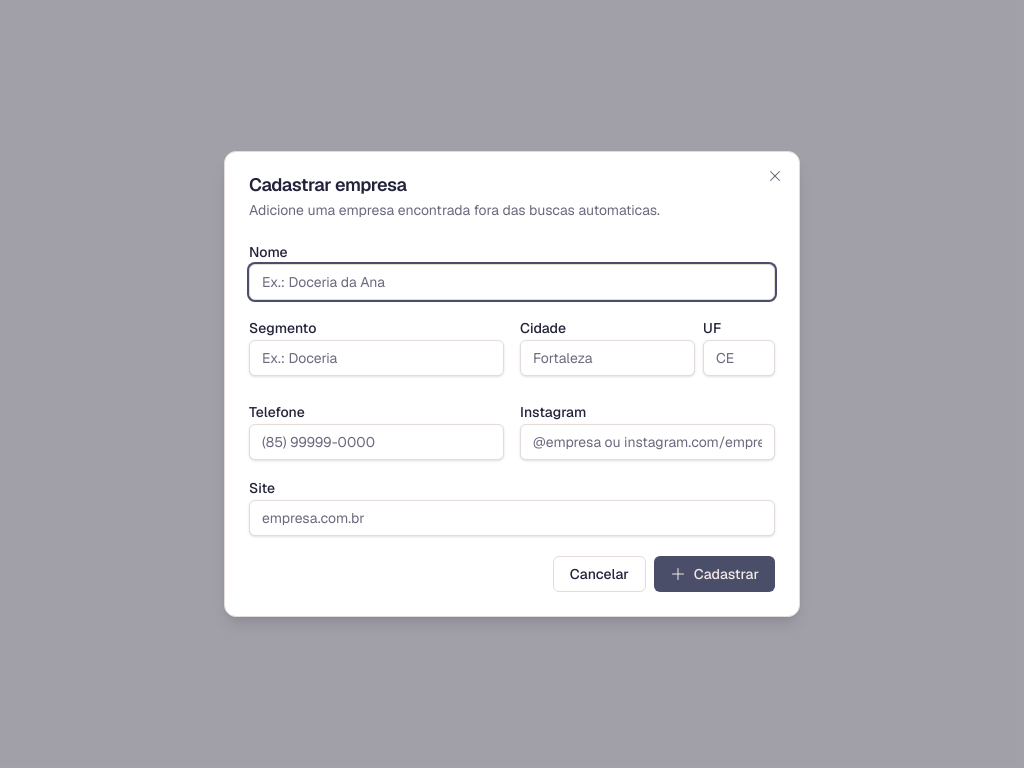
Test case: ManualBusinessDialog › requires site or Instagram before submitting
In the field labelled "Nome": (512, 282) x1=249 y1=264 x2=775 y2=300, type "Doceria da Ana"
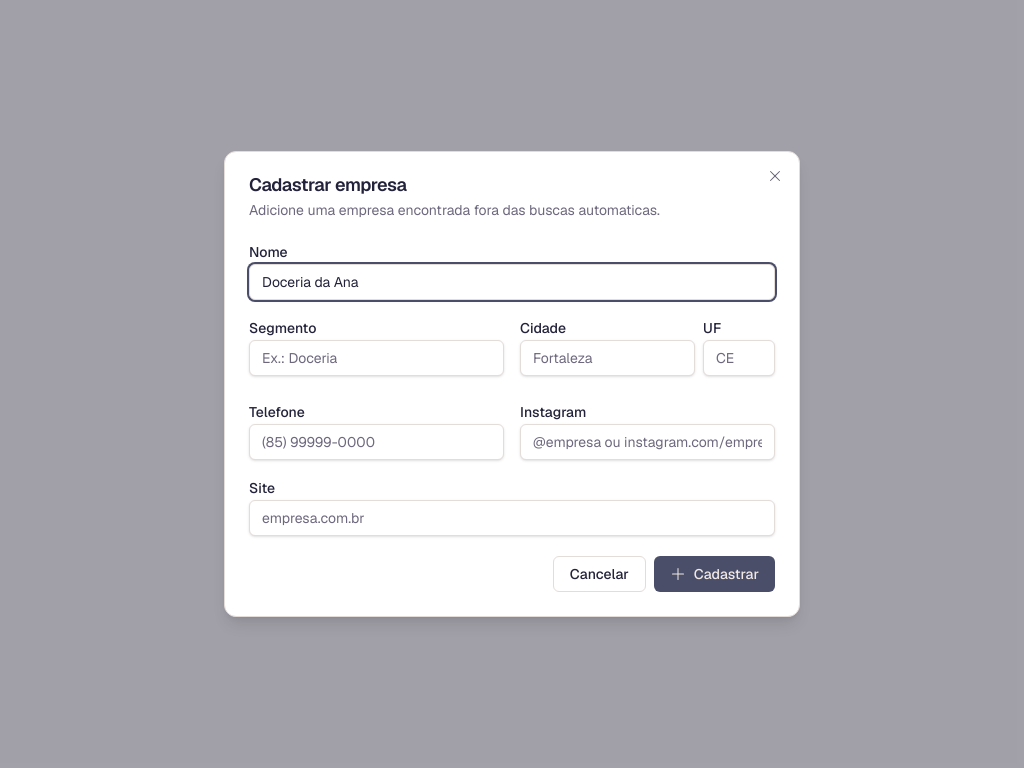
In the field labelled "Segmento": (376, 358) x1=249 y1=340 x2=504 y2=376, type "Doceria"
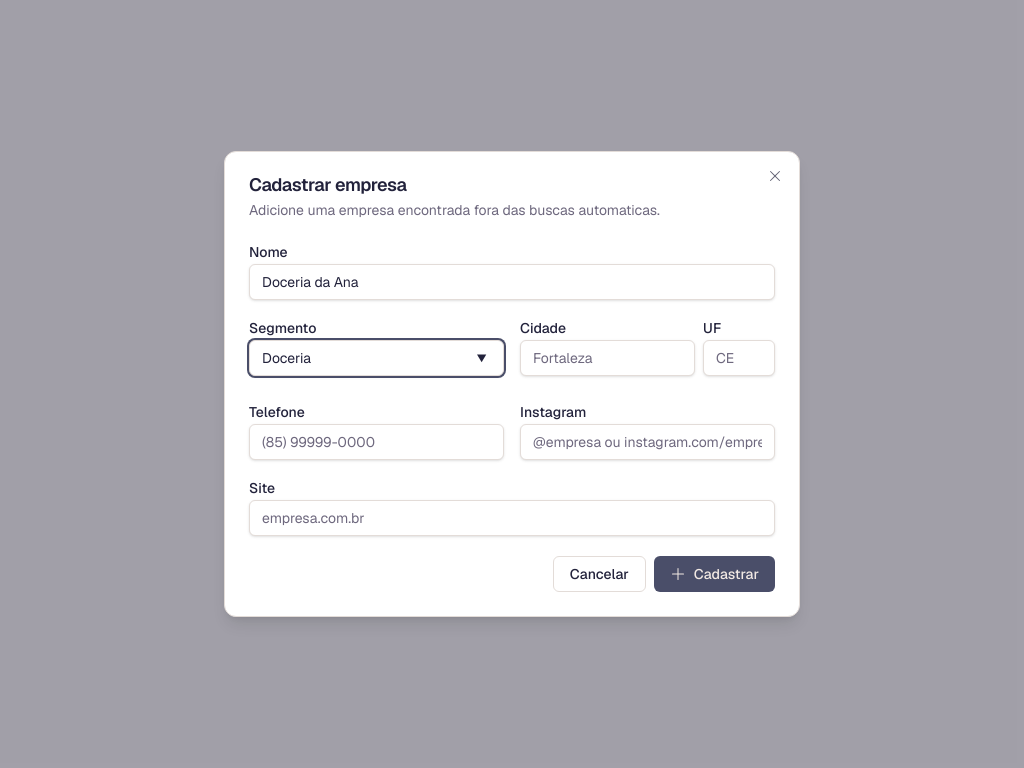
Click the button "Cadastrar": (714, 574) x1=654 y1=556 x2=775 y2=592
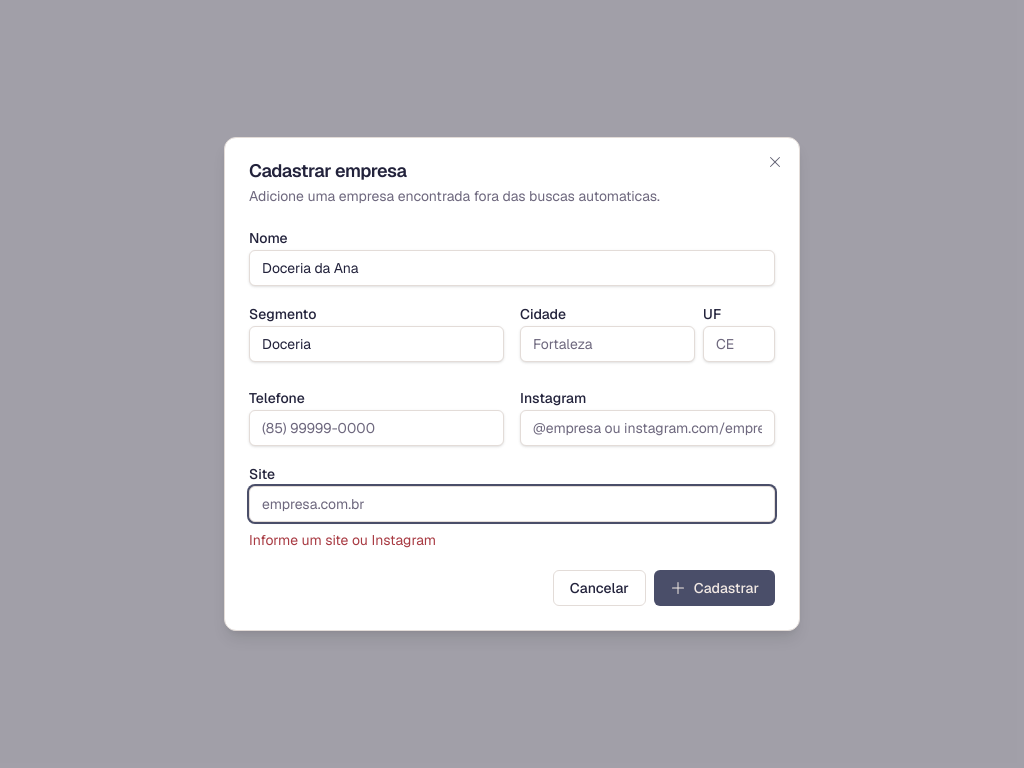
Expected: the text "Informe um site ou Instagram" is shown, x1=249 y1=531 x2=436 y2=549
